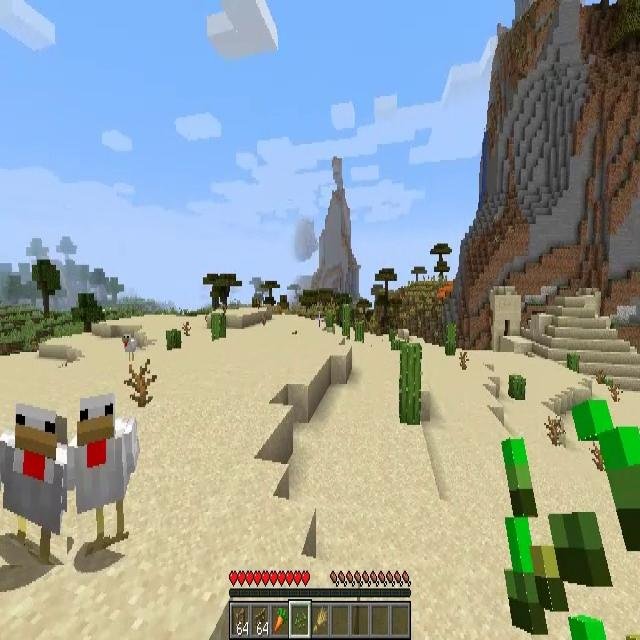duck: (68, 392, 139, 552), (0, 400, 67, 565), (121, 332, 136, 361)
